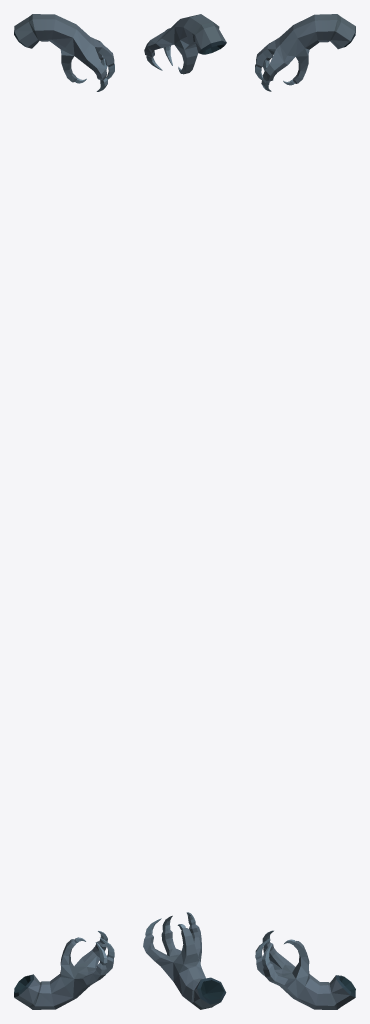
File: largeBowDragonTip.glb
The picture shows the model from 3 angles, left to right: view 1: azimuth 90°, elevation 25°; view 2: azimuth 210°, elevation 25°; view 3: azimuth 270°, elevation 25°; orthographic projection.
Parts seen in each view (by area): view 1: largeBowDragonTip; view 2: largeBowDragonTip; view 3: largeBowDragonTip.
Boxes of the visible parts, x1,y1,x2,y2 form: largeBowDragonTip: (14, 14, 114, 1009); largeBowDragonTip: (143, 14, 226, 1009); largeBowDragonTip: (255, 14, 355, 1009).
Size of the model in its own units: 0.1415 by 2.27 by 0.2094.
